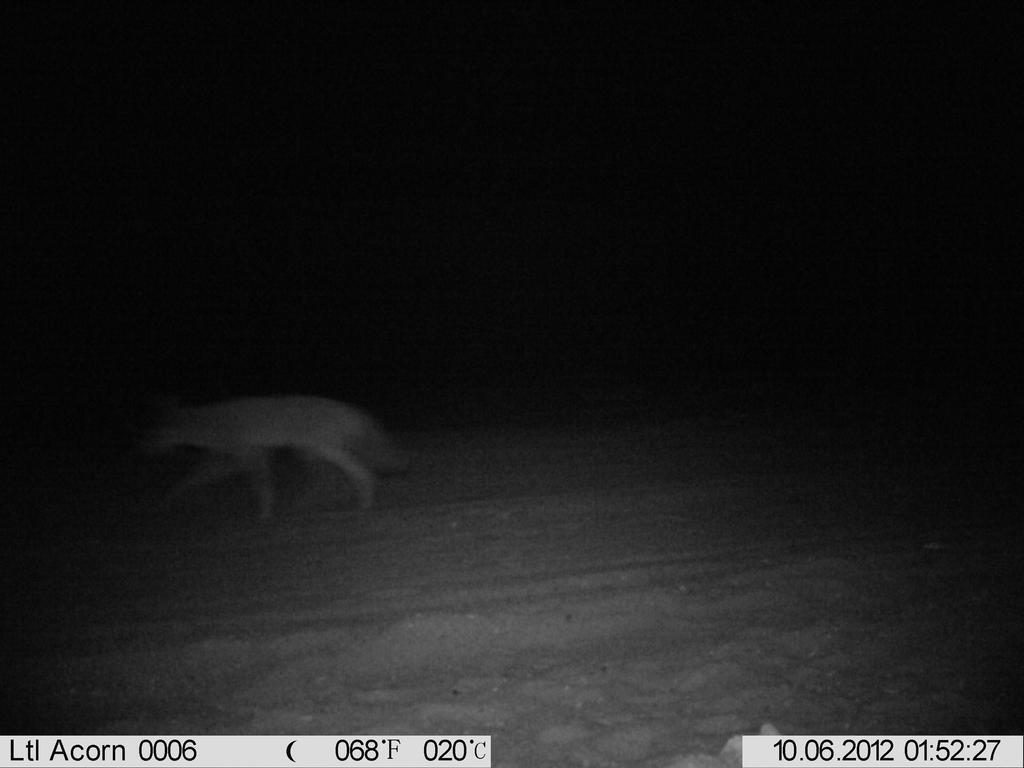coyote: (130, 379, 433, 533)
